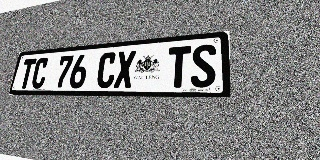6: (68, 54, 89, 88)
7: (54, 55, 74, 88)
C: (95, 52, 117, 88), (30, 57, 49, 89)
S: (190, 44, 216, 88)
T: (166, 46, 191, 88), (18, 58, 37, 89)
X: (113, 50, 136, 88)
